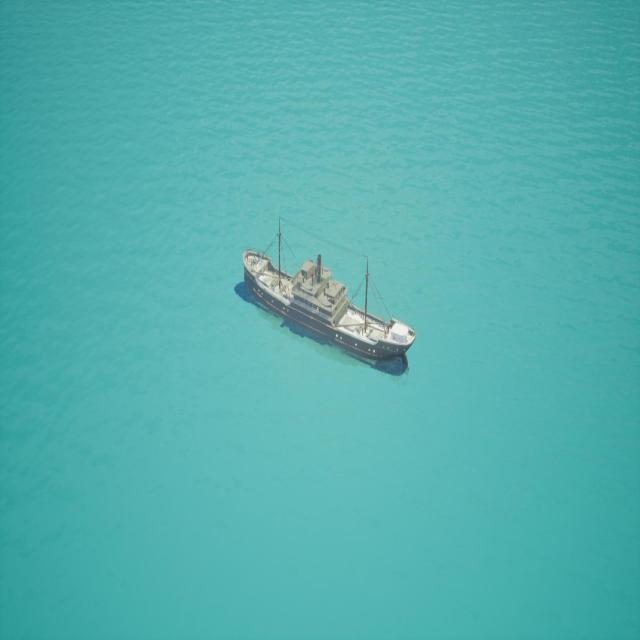fishing ship: (241, 242, 416, 377)
